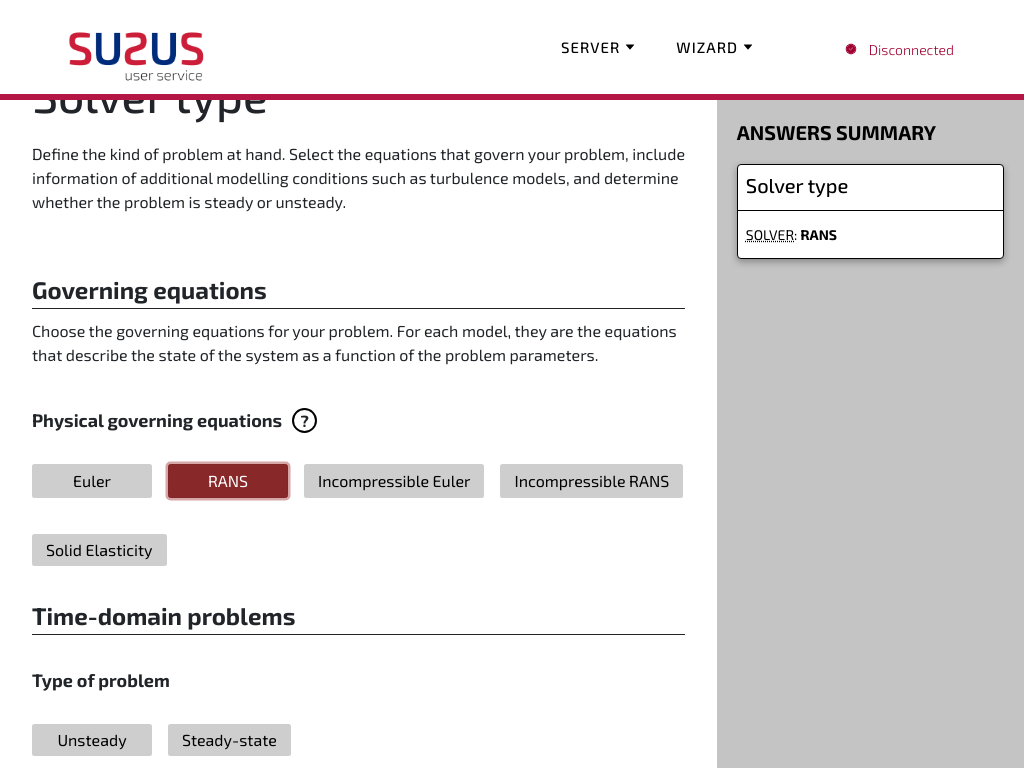
Test: New empty wizard › Solver type page › Time-domain problems › Type of problem
(page scrolled)
Click the button "Steady-state" at coordinates (230, 740), box [168,724,291,756]
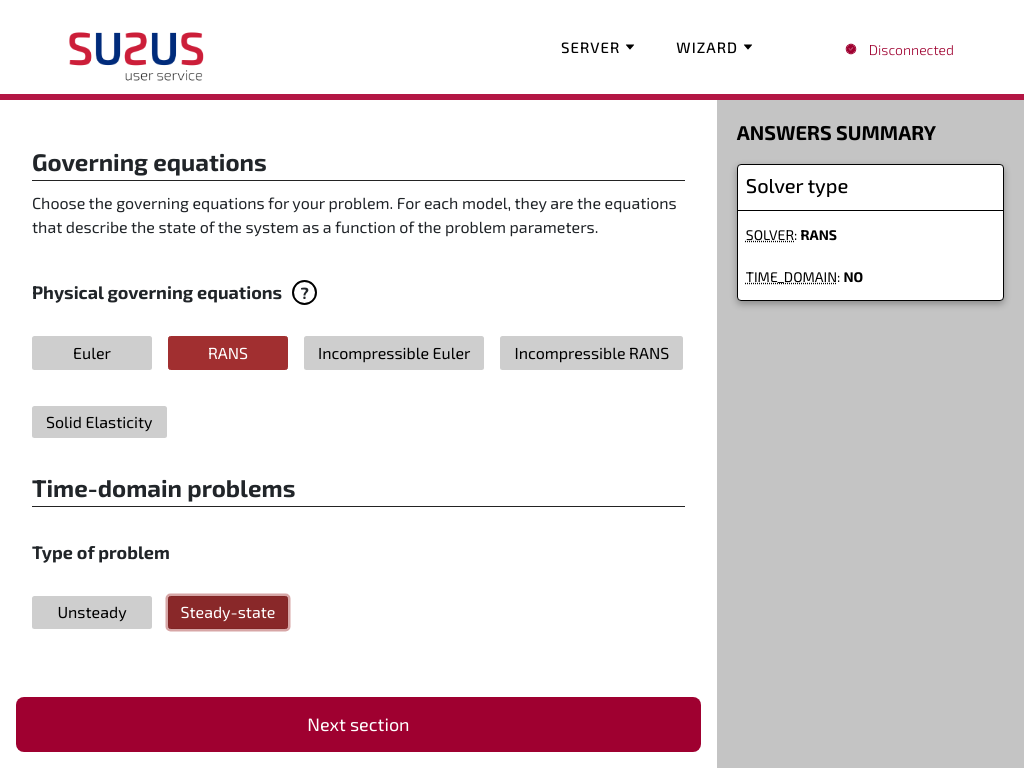
Check: the text "TIME_DOMAIN: NO" is shown, box [746,268,863,285]
